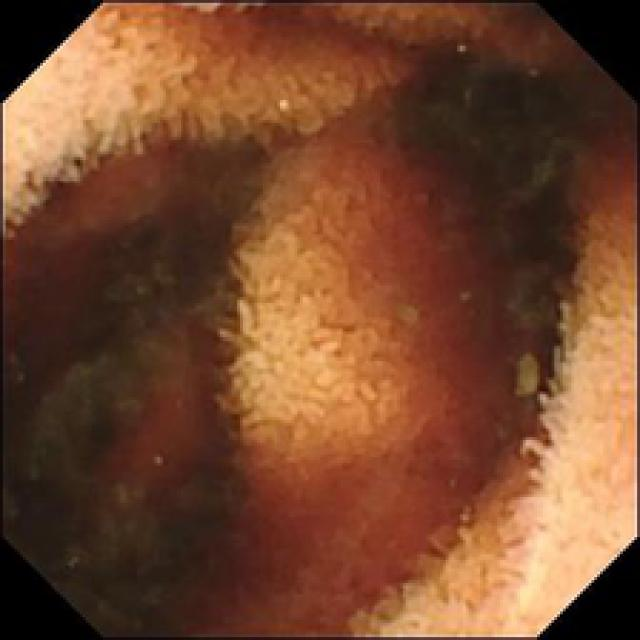bleeding: (107, 390, 470, 637), (360, 138, 490, 382)
